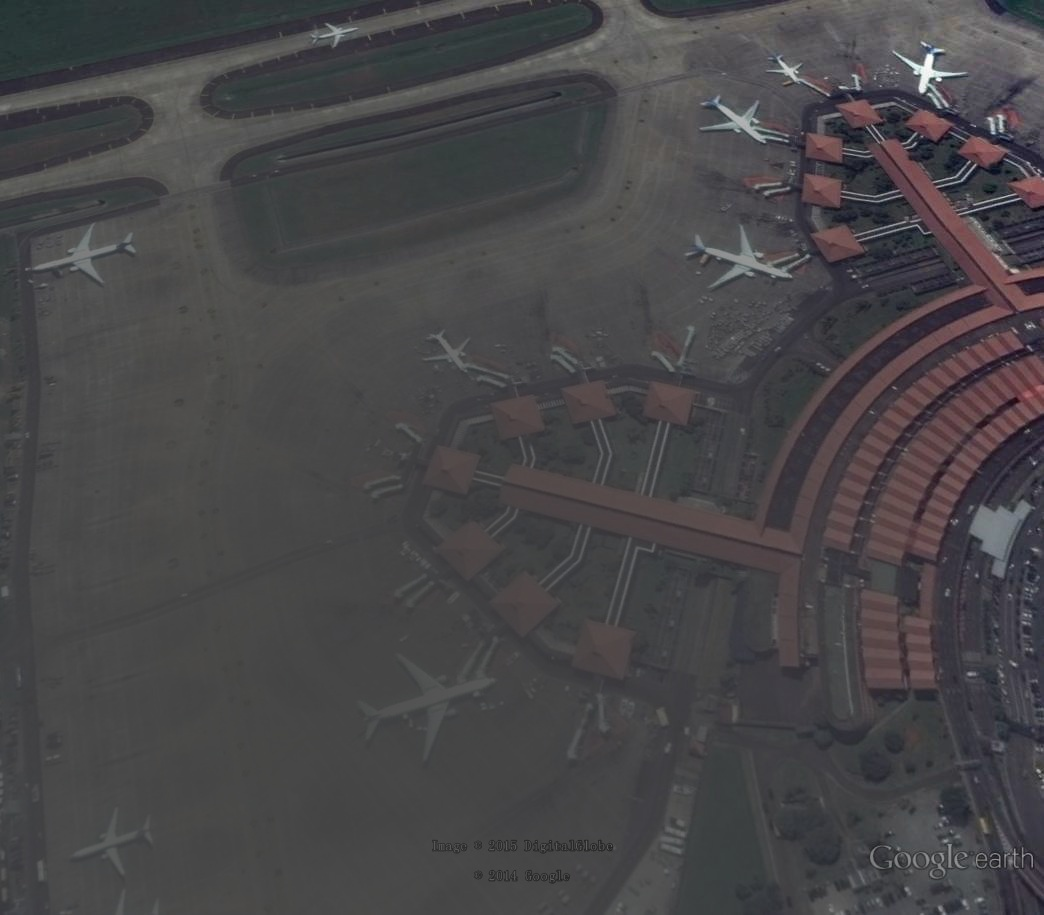aircraft: (354, 653, 501, 768), (24, 218, 140, 289), (681, 225, 798, 291), (70, 804, 155, 881), (889, 38, 969, 98), (697, 95, 770, 146), (420, 329, 474, 375), (308, 17, 362, 51), (761, 51, 807, 89)
